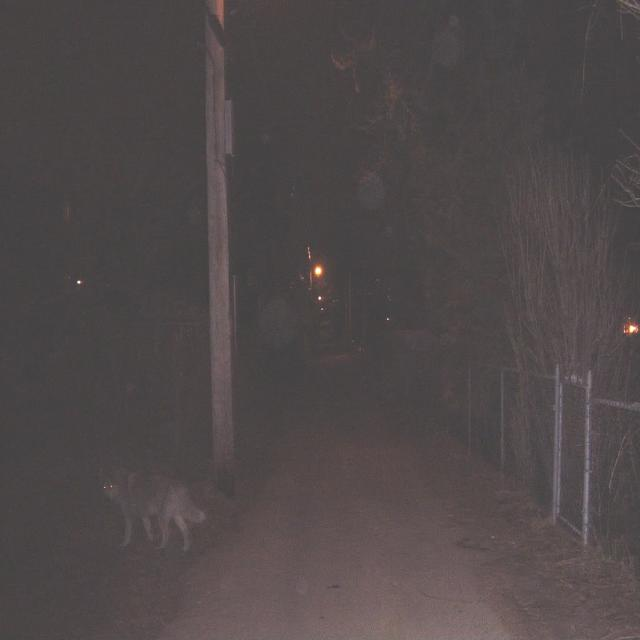Dog: (84, 449, 215, 563)
